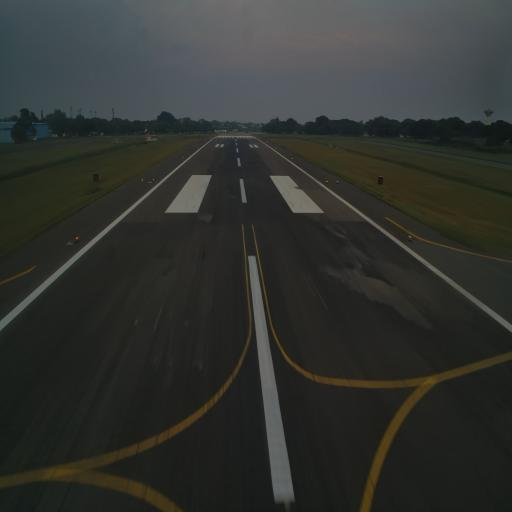on: (406, 231, 414, 243), (74, 232, 80, 243)
